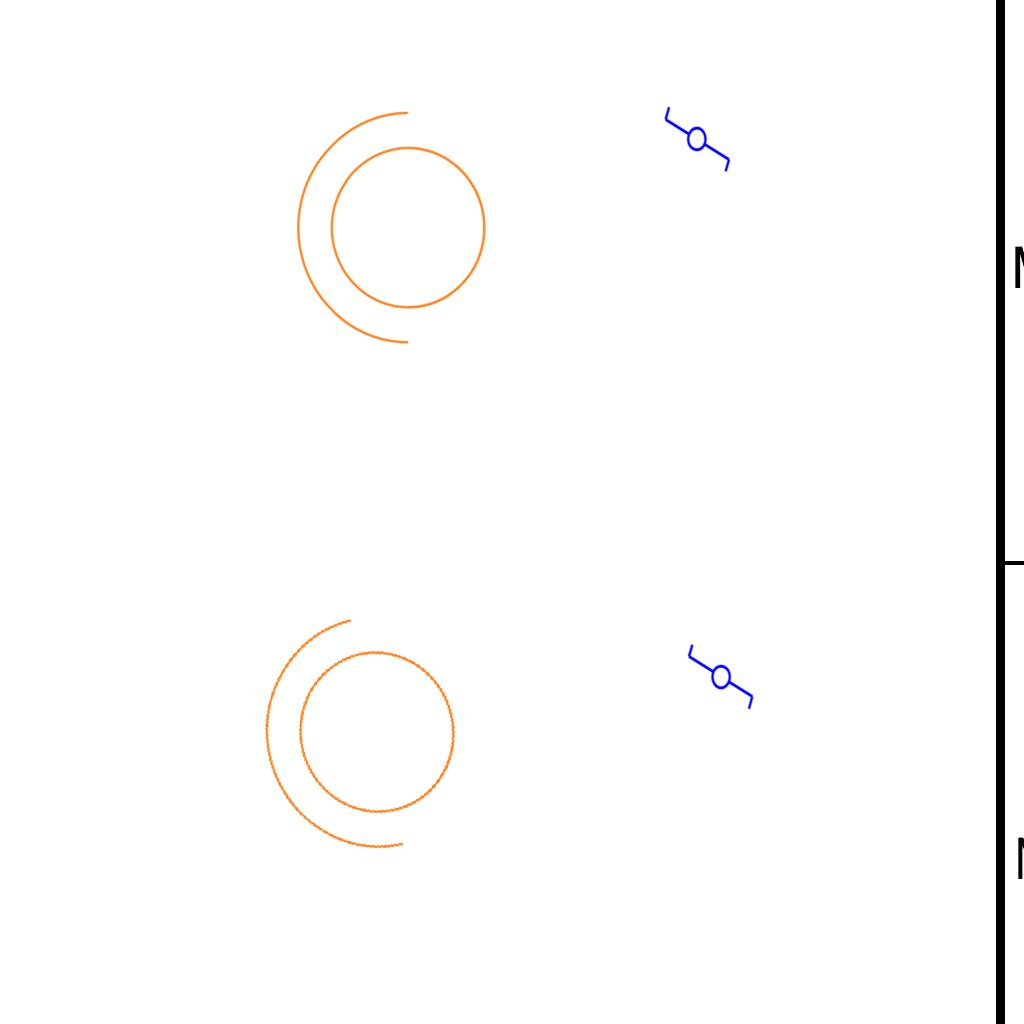Scheinwerfer_fuer_Alarmbeleuchtung: (229, 586, 509, 895), (286, 102, 511, 366)
Wechselschalter: (662, 96, 734, 174), (684, 642, 756, 720)
